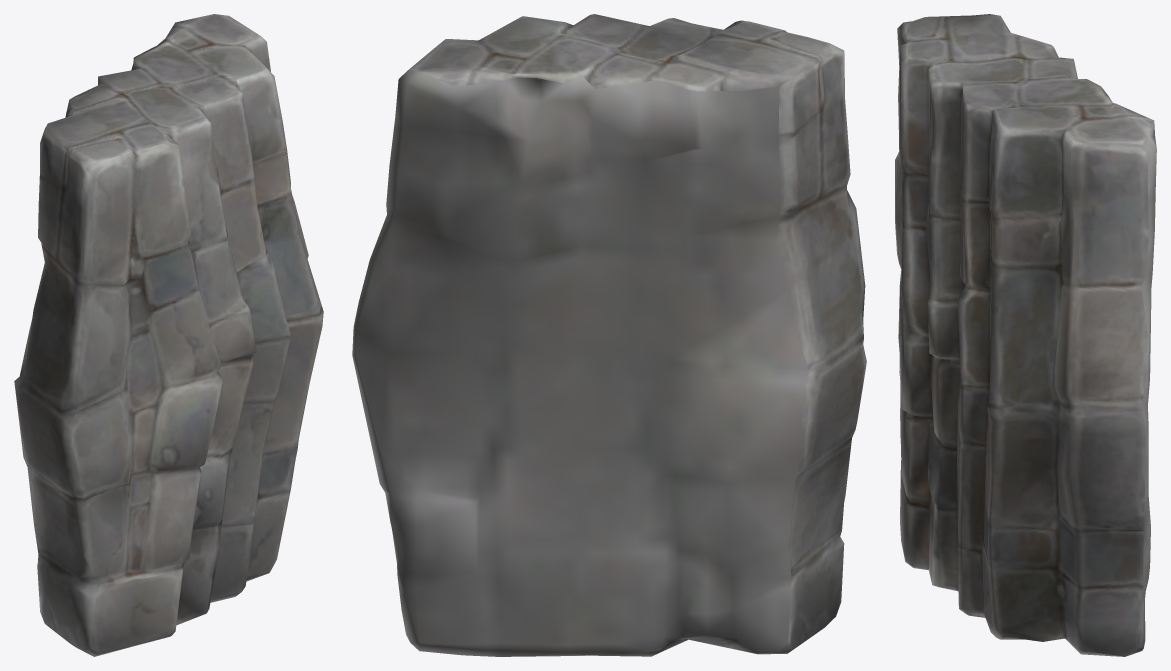
File: Dn_HL_Stairs_Refined_10x4m_A.fbx
3 renders of one model, left to right at view 1: azimuth 30°, elevation 25°; view 2: azimuth 150°, elevation 25°; view 3: azimuth 270°, elevation 25°, orthographic. The views are drawn at different scales.
Visible parts, largest first — view 1: Dn_HL_Stairs_Fine_4m_A; view 2: Dn_HL_Stairs_Fine_4m_A; view 3: Dn_HL_Stairs_Fine_4m_A.
Boxes of the visible parts, x1=… form: Dn_HL_Stairs_Fine_4m_A: x1=14, y1=14, x2=323, y2=656; Dn_HL_Stairs_Fine_4m_A: x1=352, y1=14, x2=866, y2=656; Dn_HL_Stairs_Fine_4m_A: x1=895, y1=14, x2=1156, y2=656.
Size of the model in its own units: 691 by 1011 by 464.
